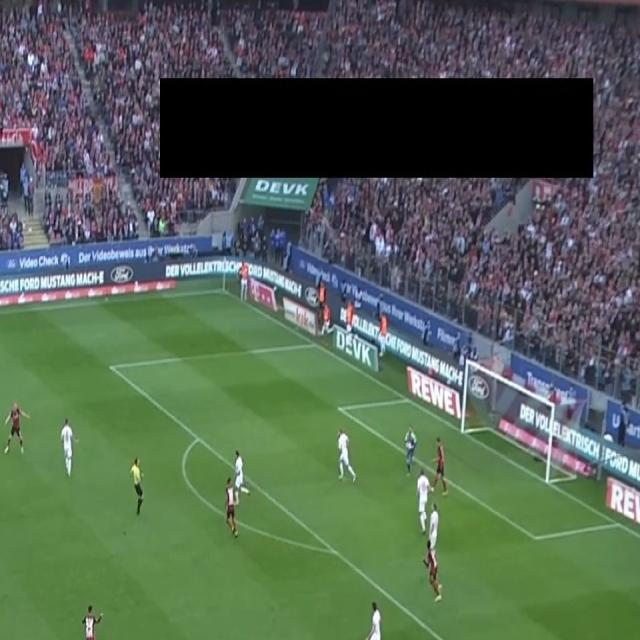ball: (405, 440, 412, 450)
